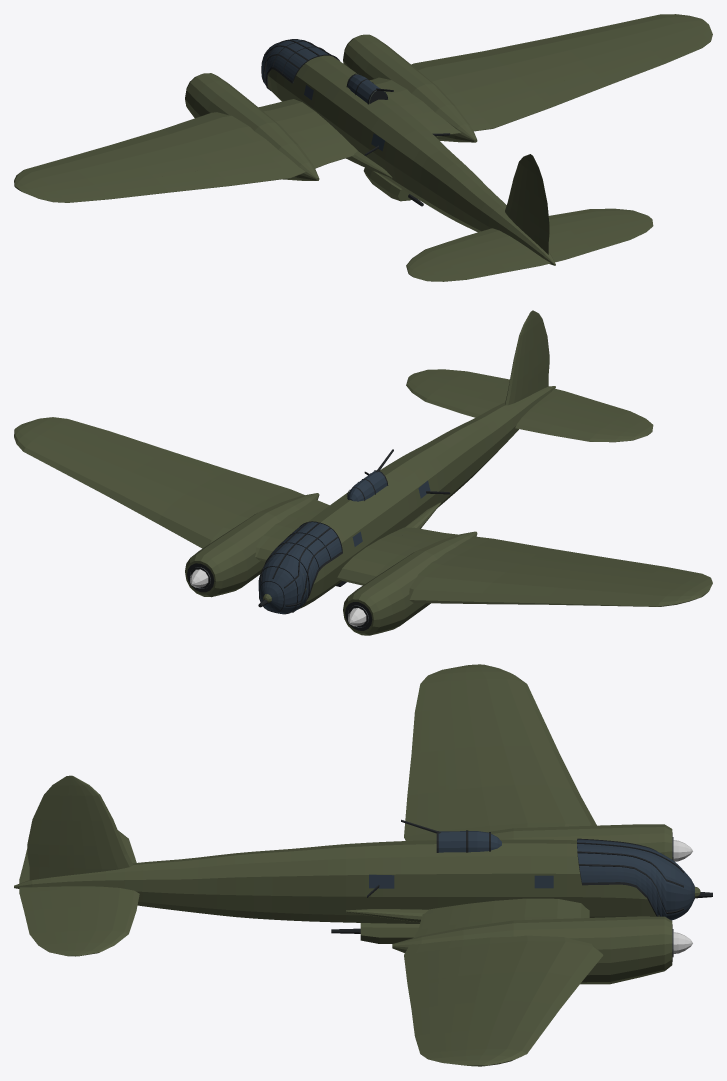
The picture shows the model from 3 angles, top to bottom: view 1: azimuth 30°, elevation 25°; view 2: azimuth 150°, elevation 25°; view 3: azimuth 270°, elevation 25°; orthographic projection. The views are drawn at different scales.
Parts seen in each view (by area): view 1: Fuselage, Wing R, Wing L, Nacelles, Aileron R, Stabilizer L, Flap L, Flap R, Aileron L, Stabilizer R, Elevator L, Elevator R (+6 smaller); view 2: Wing L, Wing R, Fuselage, Nacelles, Cockpit Glass, Stabilizer L, Stabilizer R, Aileron R, Vertical Fin, Aileron L, Elevator L, Flap L (+6 smaller); view 3: Fuselage, Wing L, Wing R, Nacelles, Cockpit Glass, Stabilizer R, Vertical Fin, Aileron L, Rudder, Flap R, Elevator R, Aileron R (+6 smaller).
Part boxes in pixels (box(x1,y1,x2,y2)): Fuselage: box(264, 55, 555, 265); Wing R: box(370, 14, 712, 118); Wing L: box(14, 99, 357, 202); Nacelles: box(185, 34, 477, 180); Aileron R: box(541, 38, 702, 104); Stabilizer L: box(406, 228, 528, 276); Flap L: box(212, 138, 353, 185); Flap R: box(416, 89, 551, 136); Aileron L: box(57, 169, 222, 202); Stabilizer R: box(548, 208, 650, 243); Elevator L: box(412, 249, 550, 281); Elevator R: box(548, 218, 653, 262); Wing L: box(337, 527, 712, 606); Wing R: box(14, 417, 317, 561); Fuselage: box(298, 386, 555, 609); Nacelles: box(185, 493, 477, 635); Cockpit Glass: box(258, 522, 341, 613); Stabilizer L: box(515, 399, 650, 442); Stabilizer R: box(406, 374, 507, 417); Aileron R: box(57, 419, 221, 475); Vertical Fin: box(505, 311, 533, 405); Aileron L: box(541, 549, 702, 579); Elevator L: box(542, 388, 653, 432); Flap L: box(398, 528, 551, 556); Fuselage: box(14, 839, 659, 923); Wing L: box(407, 664, 596, 831); Wing R: box(407, 898, 603, 1066); Nacelles: box(392, 824, 672, 984); Cockpit Glass: box(577, 839, 694, 920); Stabilizer R: box(60, 886, 139, 956); Vertical Fin: box(69, 775, 133, 875); Aileron L: box(408, 681, 448, 790); Rudder: box(27, 775, 69, 880); Flap R: box(404, 908, 462, 983); Elevator R: box(19, 886, 70, 956); Aileron R: box(408, 981, 448, 1053).
Bounding box in the file's own units: 22.6 × 4.33 × 16.67.
